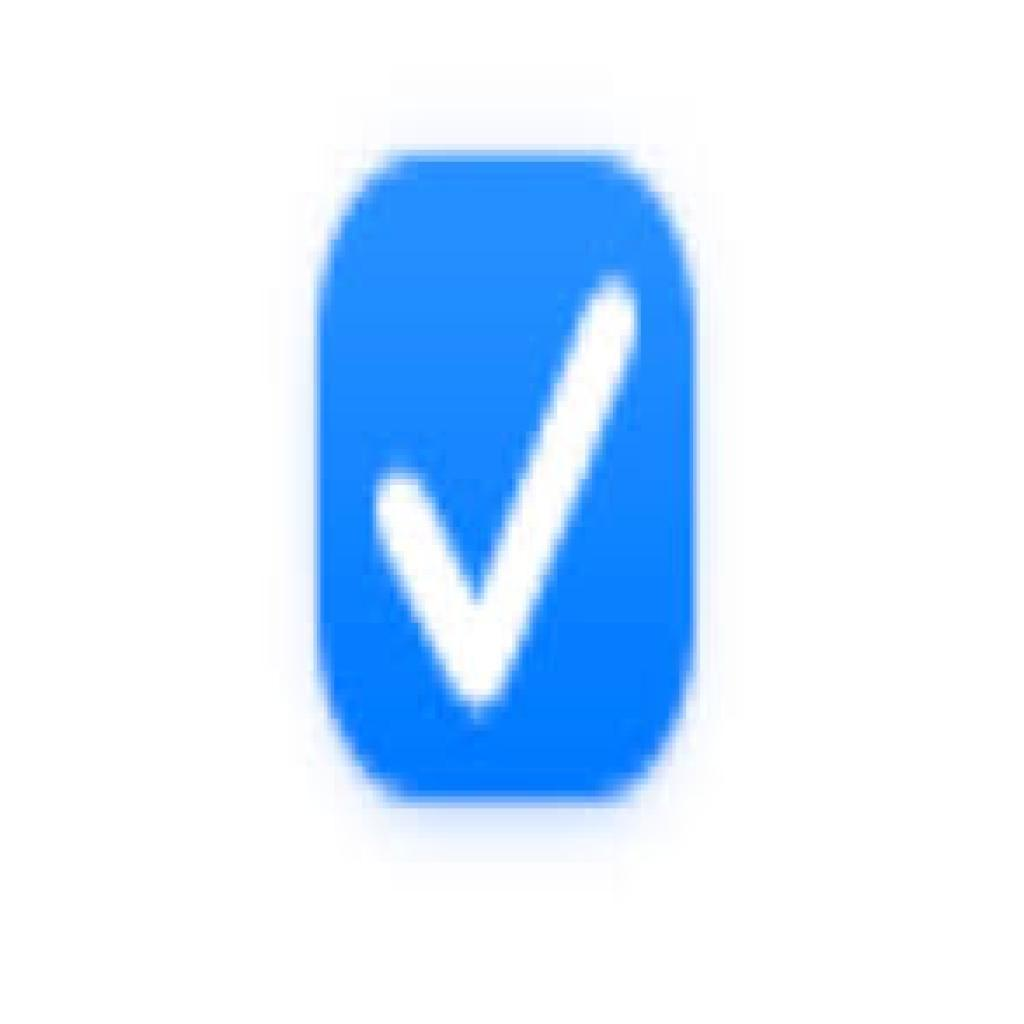checkbox: (317, 144, 701, 814)
